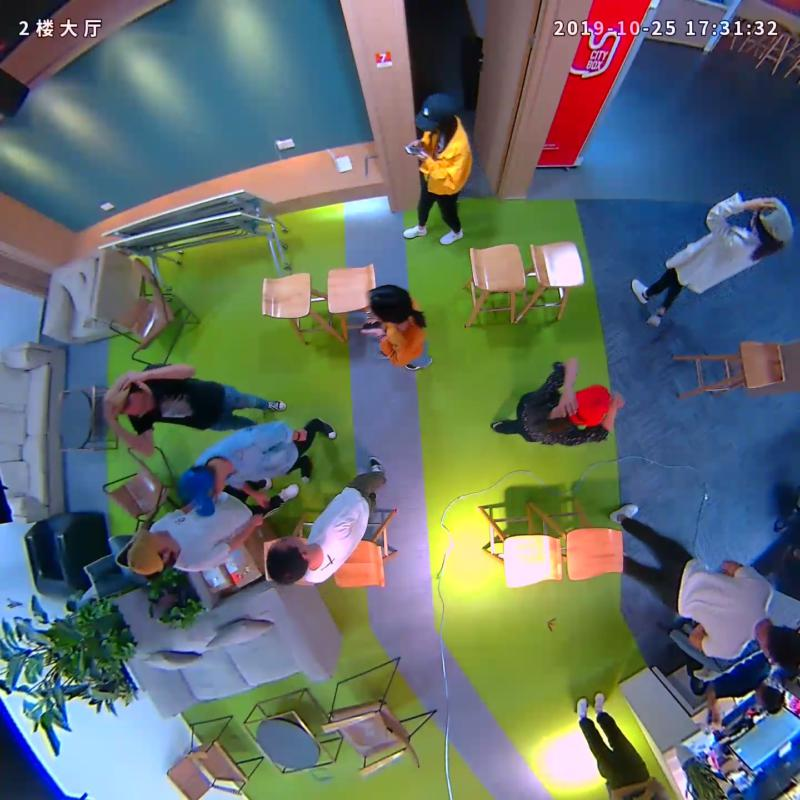head: (180, 462, 228, 517), (126, 528, 173, 577), (749, 197, 795, 247), (264, 534, 309, 583), (366, 284, 414, 325), (568, 384, 613, 426), (104, 381, 153, 419), (413, 93, 456, 136), (761, 624, 800, 669)
